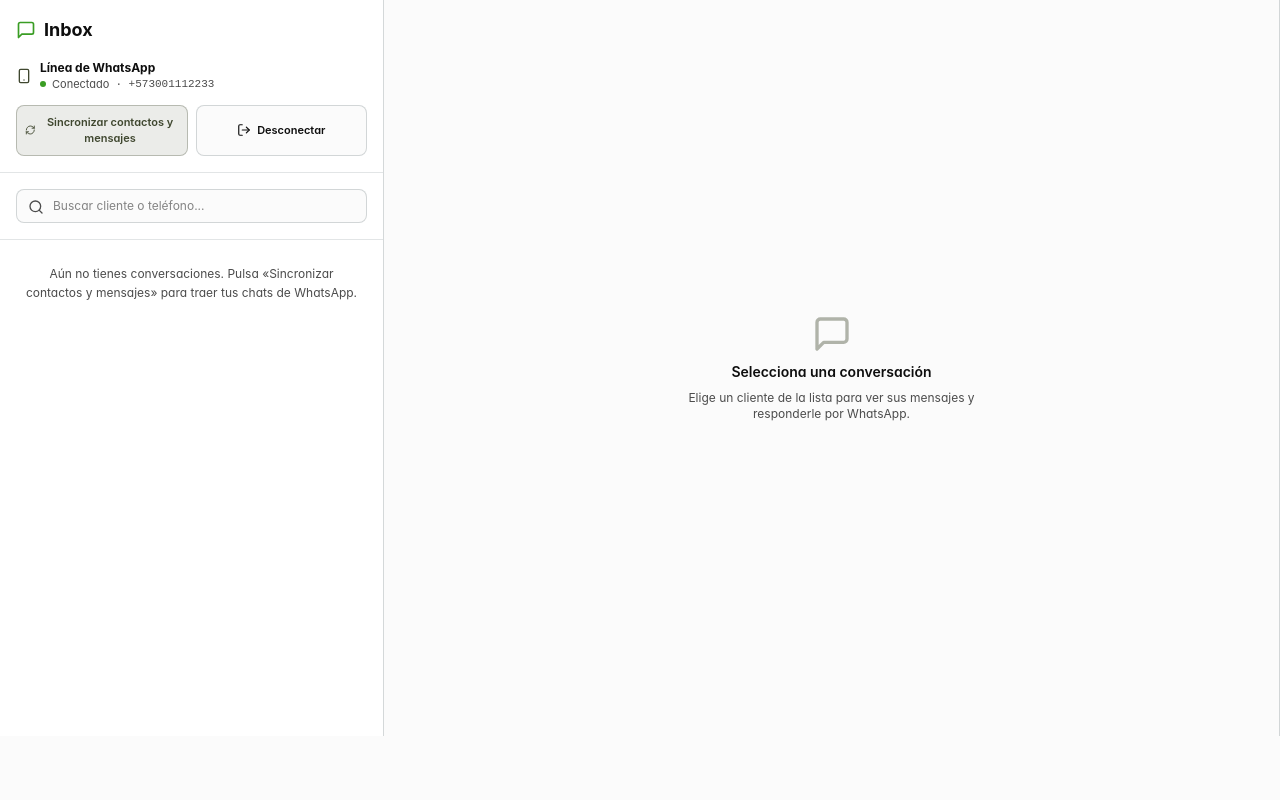
Test case: WhatsApp page › syncs contacts and messages, then reloads the inbox
The width and height of the screenshot is (1280, 800).
Click the button "Sincronizar contactos y mensajes". click: {"x": 102, "y": 130}
box: [16,104,188,156]
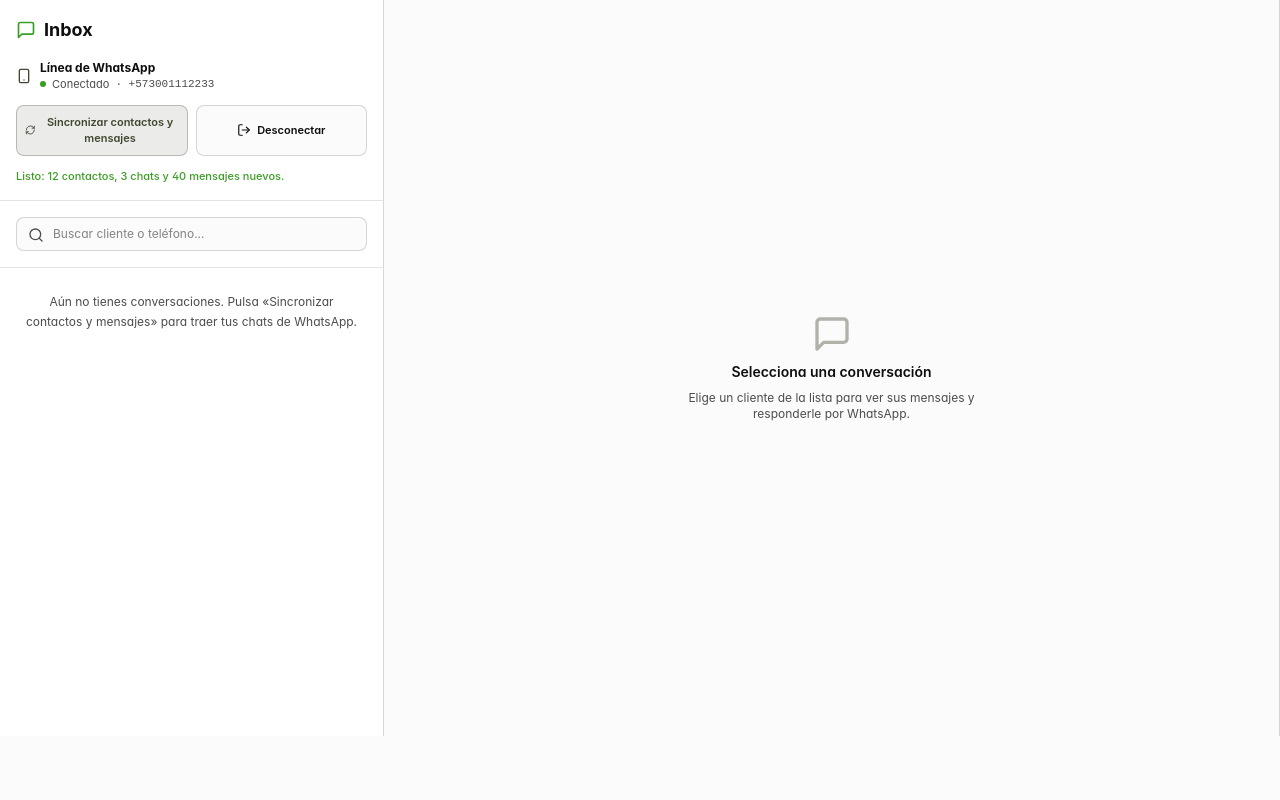
Check: the text "Listo: 12 contactos, 3 chats y 40 mensajes nuevos." is shown, box [16,168,284,182]
